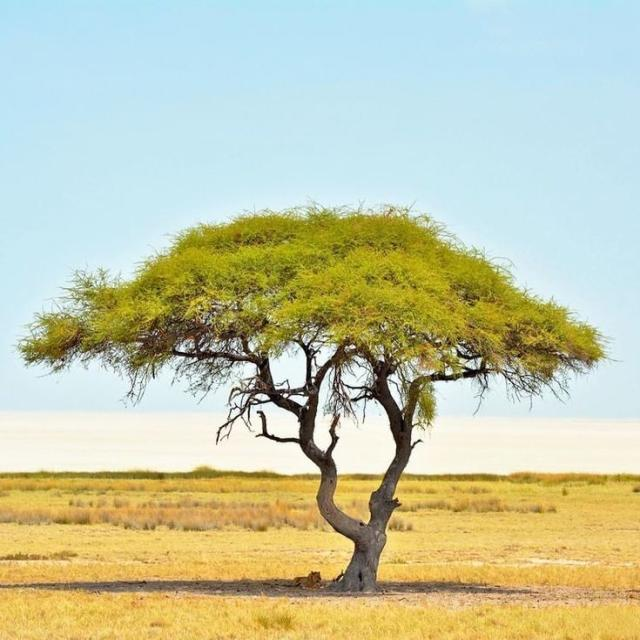Acacia: (84, 194, 570, 568)
